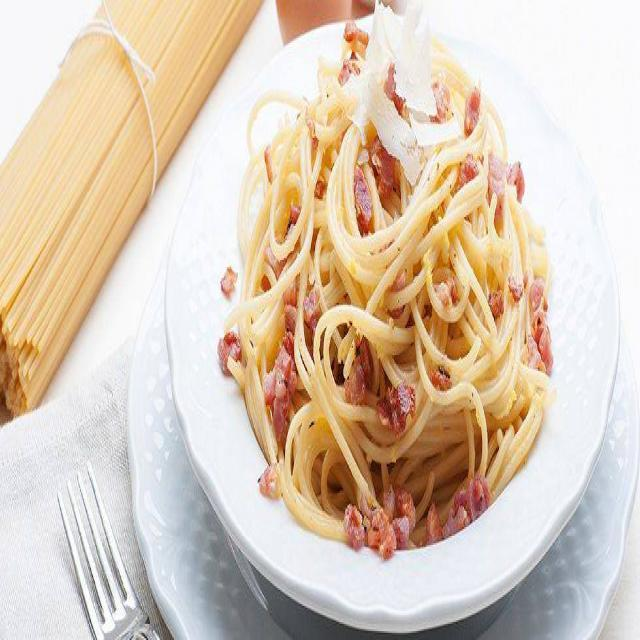Pasta with carbonara sauce: (219, 9, 595, 593)
